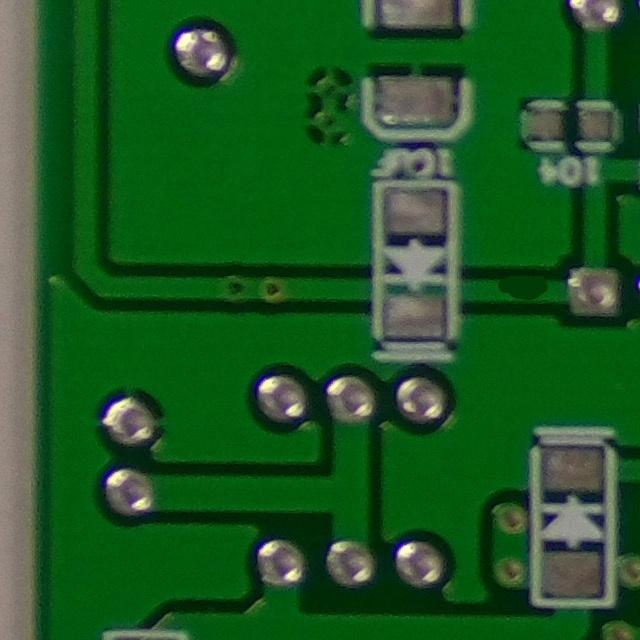mouse_bite: (484, 256, 563, 307)
